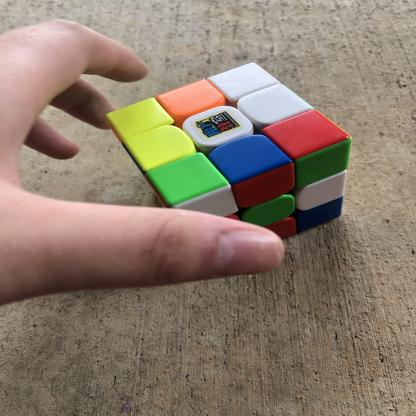UnsolvedCube: (106, 53, 355, 235)
